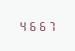four: (18, 20, 26, 31)
seven: (45, 20, 53, 31)
six: (27, 20, 35, 31), (36, 20, 44, 31)
